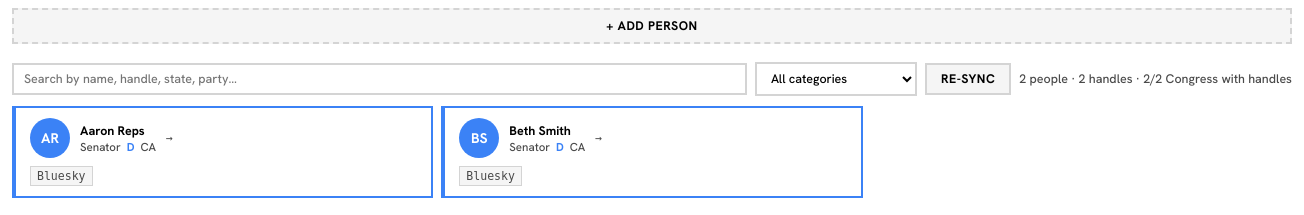
Test: PeopleTab — search + filter › filters by category dropdown
This screenshot has width=1304, height=215.
Expected: the text "Aaron Reps" is shown, [80,122,156,138]
Expected: the text "Beth Smith" is shown, [509,122,571,138]
Select "Influencer" in the dropdown at (836, 79), box [755,62,917,96]
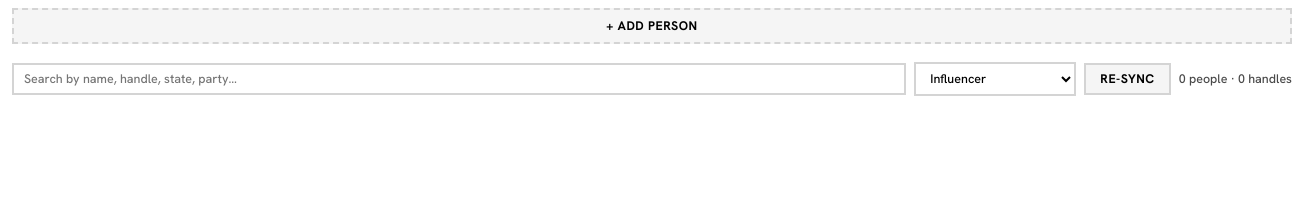
Now the button "Aaron Reps" is gone
Now the button "Beth Smith" is gone
// Switch back to "All" — both should reappear.
Select "All categories" in the dropdown at (995, 79), box [914,62,1076,96]
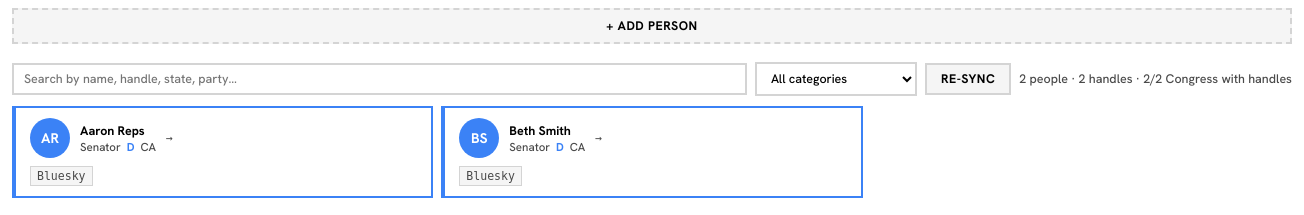
Now the text "Aaron Reps" is shown, box [80,122,156,138]
